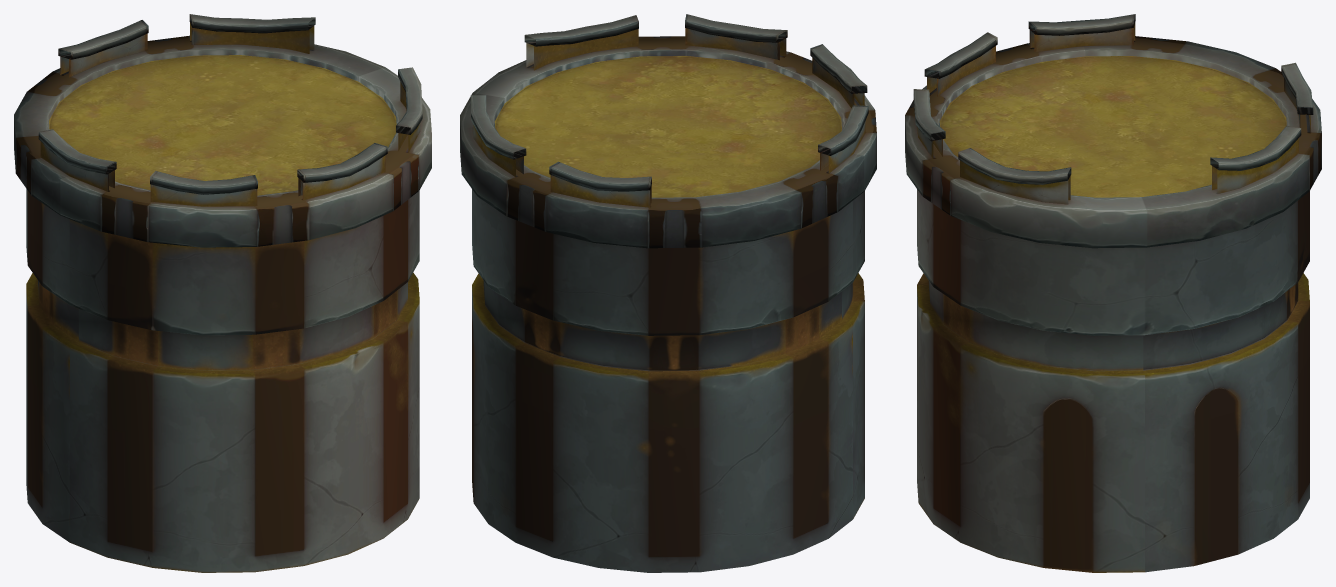
File: SM_Base_02_variant_2.glb
3 views of the same model, side by side, from view 1: azimuth 30°, elevation 25°; view 2: azimuth 150°, elevation 25°; view 3: azimuth 270°, elevation 25° (orthographic).
Visible parts, largest first — view 1: SM_Base_02; view 2: SM_Base_02; view 3: SM_Base_02.
Boxes of the visible parts, left/top/right/bottom form: SM_Base_02: left=14, top=14, right=431, bottom=572; SM_Base_02: left=460, top=14, right=876, bottom=572; SM_Base_02: left=905, top=14, right=1321, bottom=572.
Size of the model in its own units: 14.49 by 15.25 by 14.49.
1 material, 1 textured.
